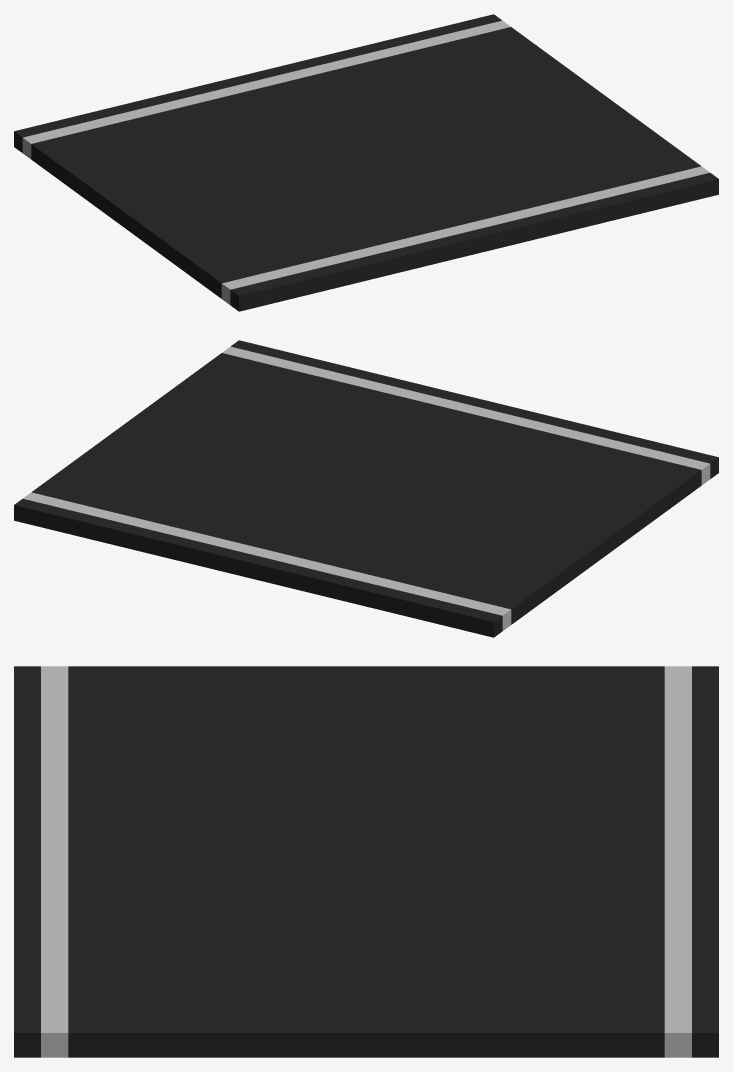
File: road-straight-4.gltf
The picture shows the model from 3 angles, top to bottom: view 1: azimuth 30°, elevation 25°; view 2: azimuth 150°, elevation 25°; view 3: azimuth 270°, elevation 25°; orthographic projection. The views are drawn at different scales.
Visible parts, largest first — view 1: road-straight-4_model; view 2: road-straight-4_model; view 3: road-straight-4_model.
Boxes of the visible parts, <box> form: road-straight-4_model: <box>14,14,718,311</box>; road-straight-4_model: <box>14,340,718,637</box>; road-straight-4_model: <box>14,666,718,1057</box>.
Bounding box in the file's own units: 3.2 × 0.1 × 2.6.
Materials: 1 (1 with a texture image).
